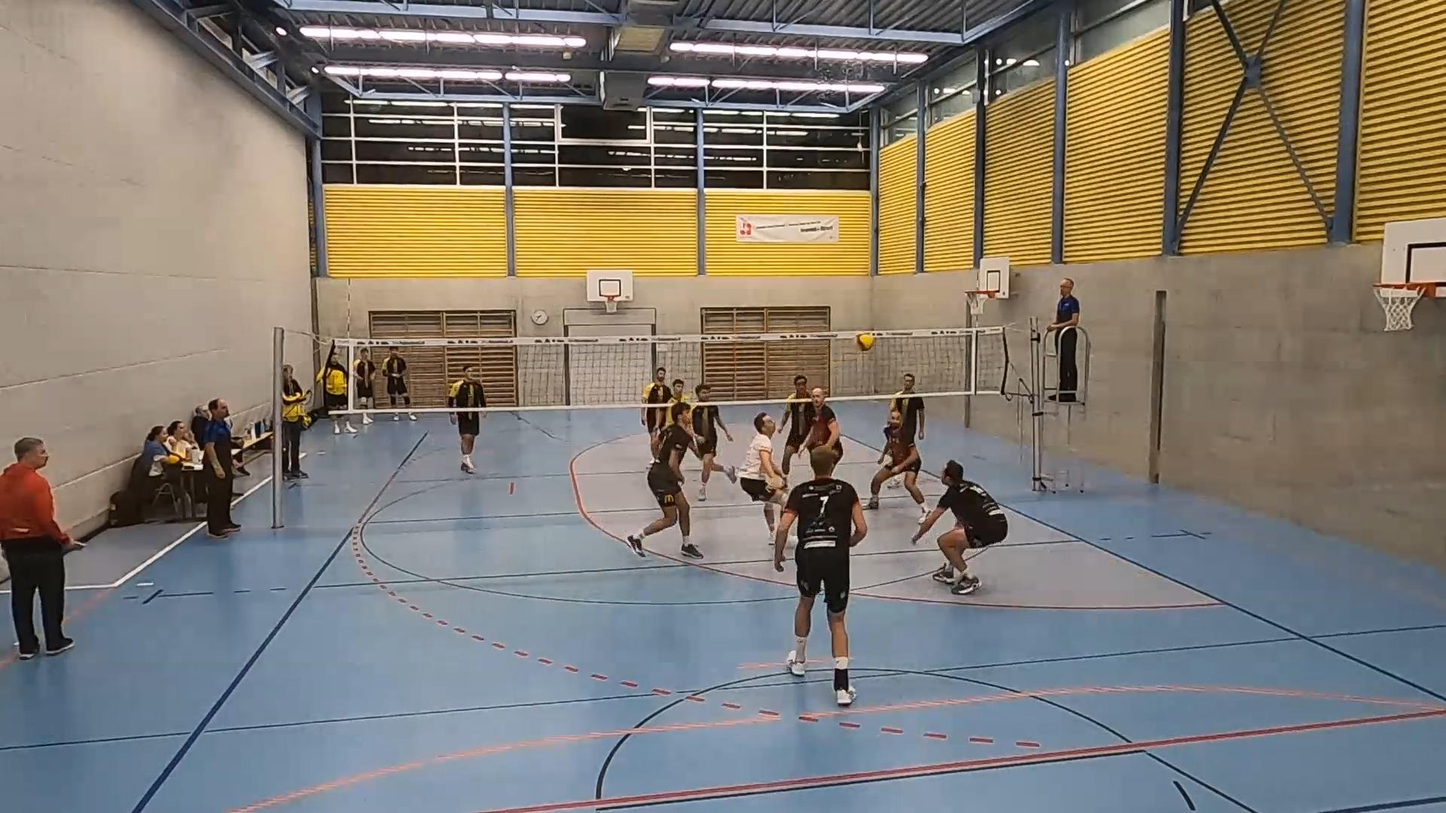difesa: (909, 461, 1011, 598)
